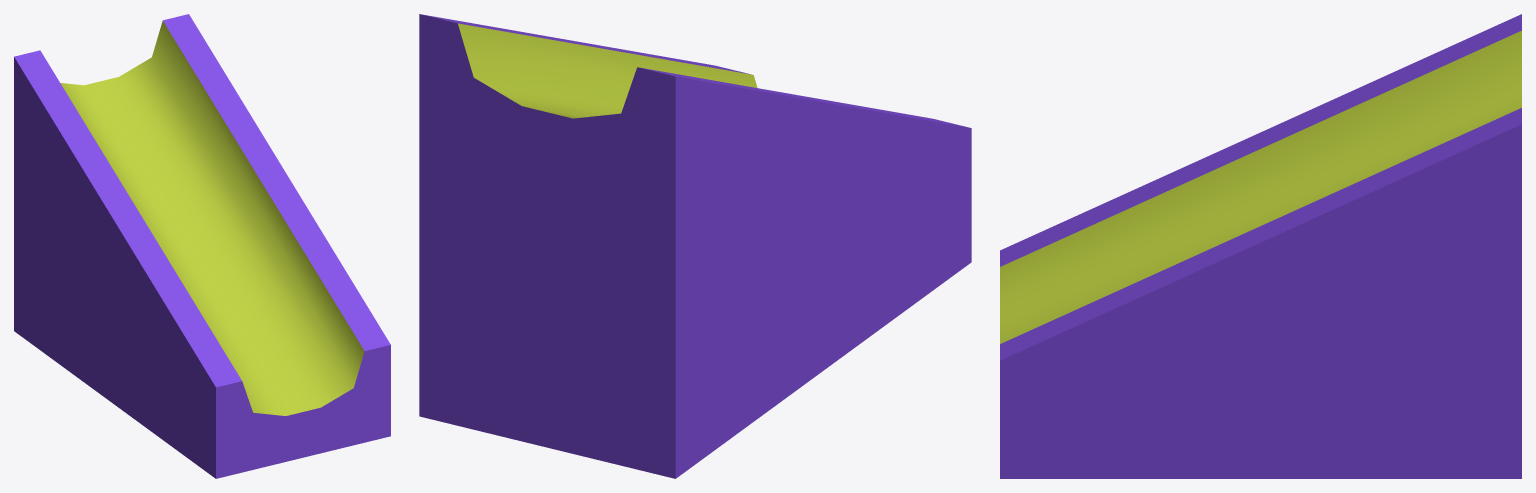
Rendered from slant_solid_long_C-col.dae.
The picture shows the model from 3 angles, left to right: view 1: azimuth 30°, elevation 25°; view 2: azimuth 150°, elevation 25°; view 3: azimuth 270°, elevation 25°; orthographic projection. The views are drawn at different scales.
Parts seen in each view (by area): view 1: slant_solid_long_C-col; view 2: slant_solid_long_C-col; view 3: slant_solid_long_C-col.
Part boxes in pixels (x1,y1,x2,y2): slant_solid_long_C-col: (14,14,390,478); slant_solid_long_C-col: (419,14,971,478); slant_solid_long_C-col: (1000,14,1521,478).
Bounding box in the file's own units: 1 × 2 × 1.5.
